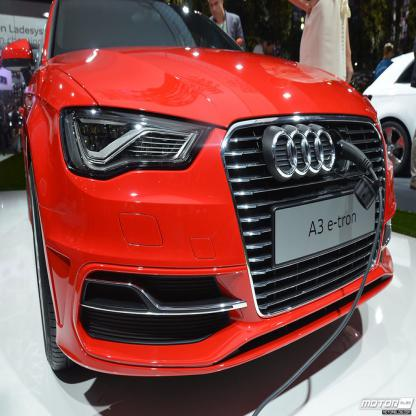Car: (0, 0, 397, 378), (361, 50, 415, 177)
